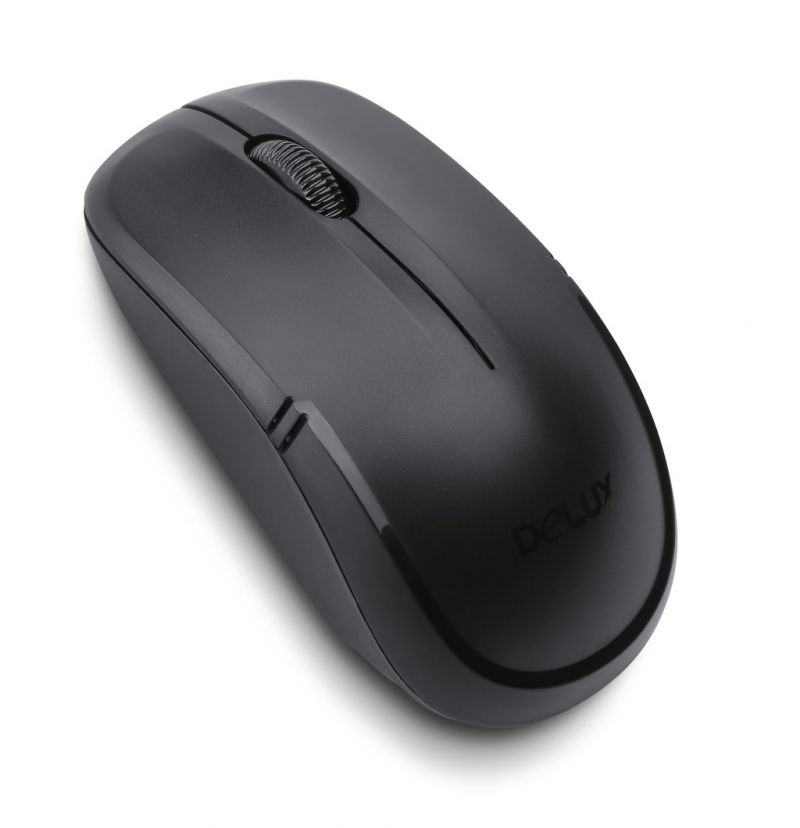Mouse: (61, 66, 694, 747)
